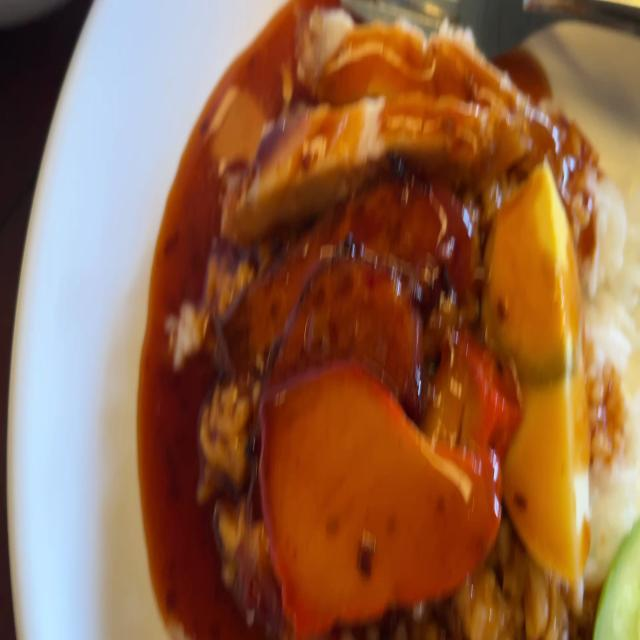red_pork_and_crispy_pork: (482, 166, 598, 580)
stir_fried_basil: (224, 188, 477, 415)
